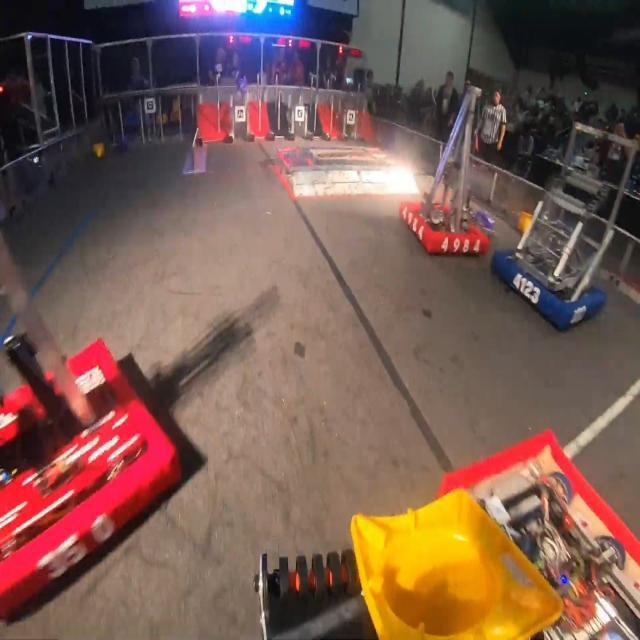robot: (0, 235, 182, 623), (490, 118, 640, 326), (396, 81, 492, 258)
